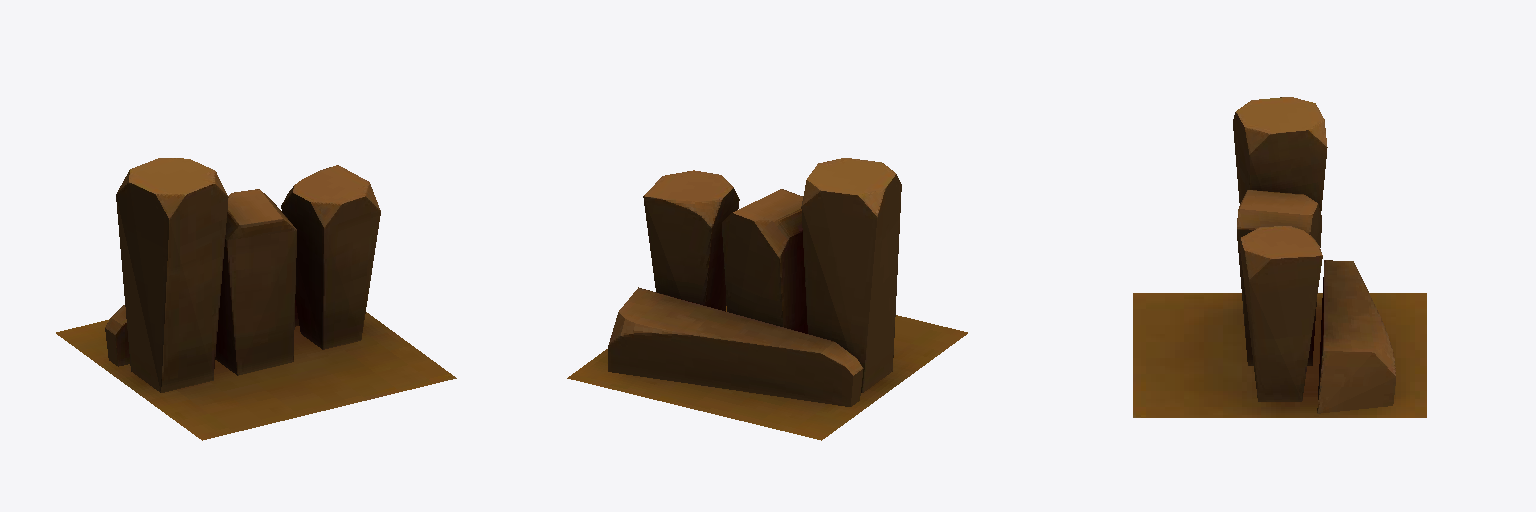
3 renders of one model, left to right at view 1: azimuth 30°, elevation 25°; view 2: azimuth 150°, elevation 25°; view 3: azimuth 270°, elevation 25°, orthographic.
Visible parts, largest first — view 1: OBJ_Barrier_01; view 2: OBJ_Barrier_01; view 3: OBJ_Barrier_01.
Boxes of the visible parts, <box> form: OBJ_Barrier_01: <box>56,158,456,440</box>; OBJ_Barrier_01: <box>567,158,967,440</box>; OBJ_Barrier_01: <box>1133,97,1426,417</box>.
Size of the model in its own units: 1.2 by 0.898 by 1.2.
Materials: 1 (1 with a texture image).